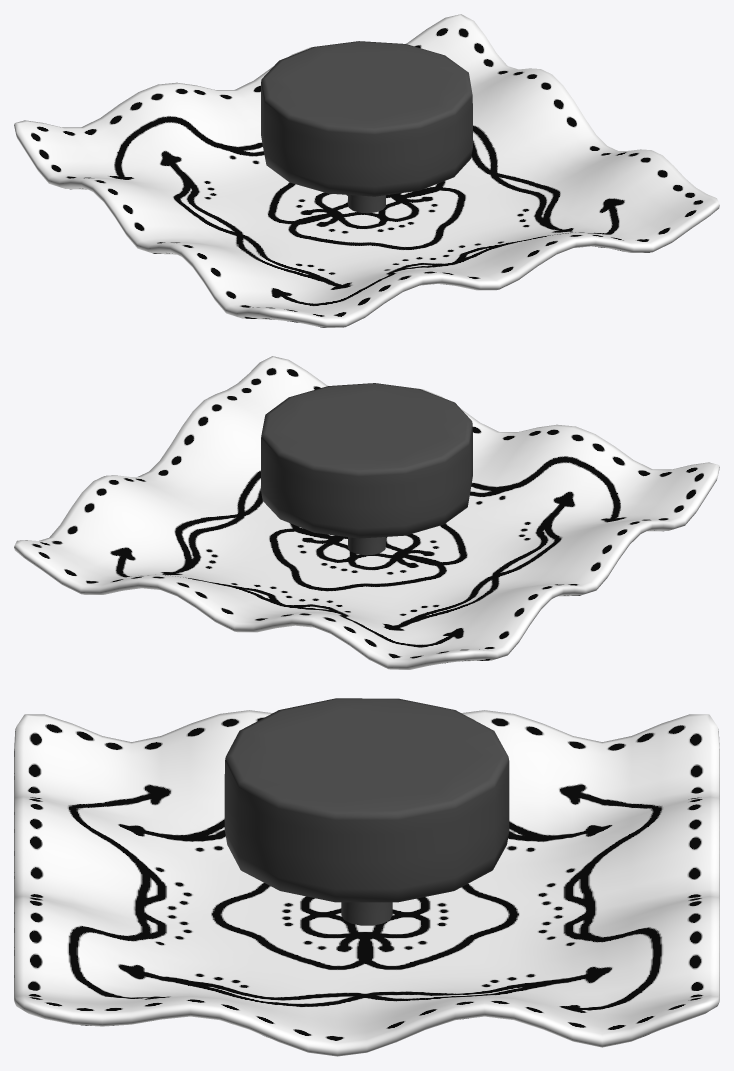
The model's file is Square_Ceiling_Light.fbx.
3 views of the same model, one above another, from view 1: azimuth 30°, elevation 25°; view 2: azimuth 150°, elevation 25°; view 3: azimuth 270°, elevation 25° (orthographic). The views are drawn at different scales.
Visible parts, largest first — view 1: Glass, Stand; view 2: Glass, Stand; view 3: Glass, Stand.
Part boxes in pixels (x1,y1,x2,y2): Glass: [14, 14, 719, 327]; Stand: [261, 41, 472, 213]; Glass: [14, 356, 719, 669]; Stand: [261, 383, 472, 555]; Glass: [14, 710, 719, 1056]; Stand: [224, 698, 509, 925].
Size of the model in its own units: 40 by 12.95 by 40.
